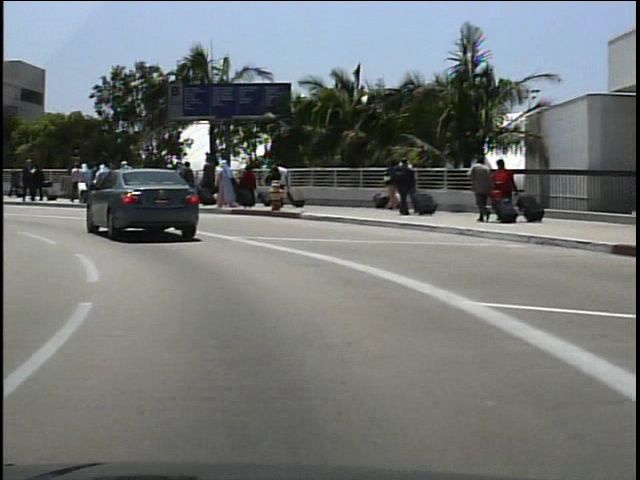person: (465, 153, 493, 224), (384, 156, 415, 217), (489, 157, 517, 222), (28, 160, 52, 209), (270, 157, 293, 206), (20, 157, 39, 202), (10, 164, 19, 201)
